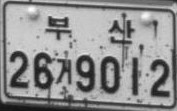0: (99, 54, 120, 94)
1: (125, 56, 143, 96)
2: (8, 49, 29, 88), (149, 58, 170, 97)
6: (32, 50, 53, 89)
9: (74, 53, 96, 93)
거: (55, 57, 72, 84)
부산_D: (45, 14, 135, 45)
